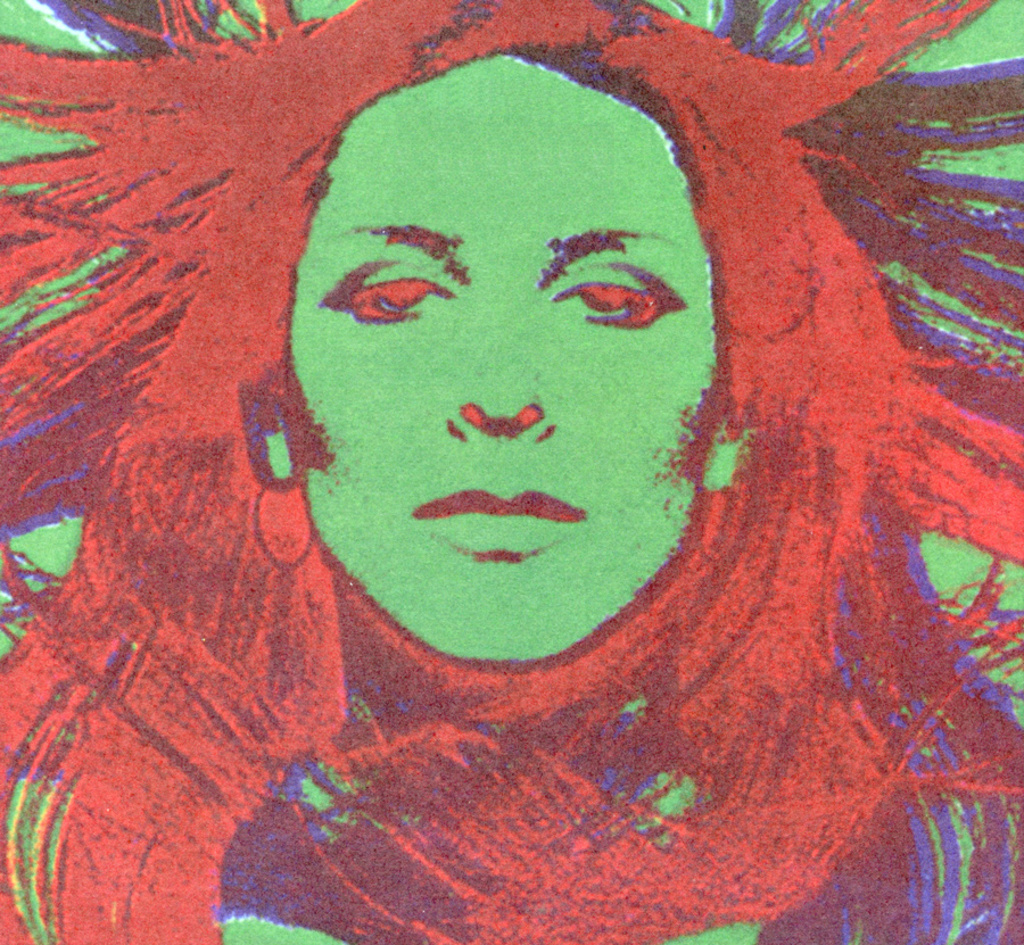Human-face: (286, 56, 716, 662)
